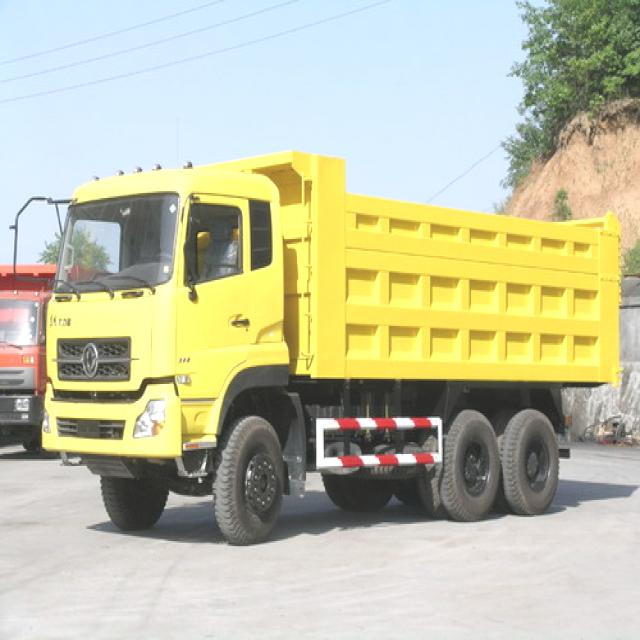truck: (11, 145, 622, 541)
